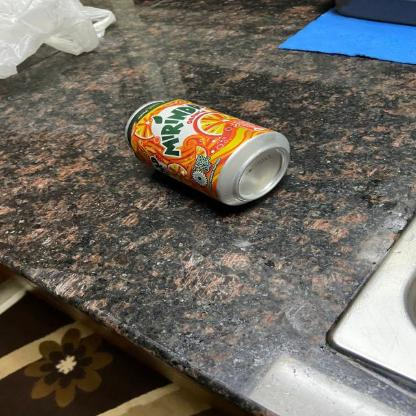Can: (124, 96, 294, 208)
